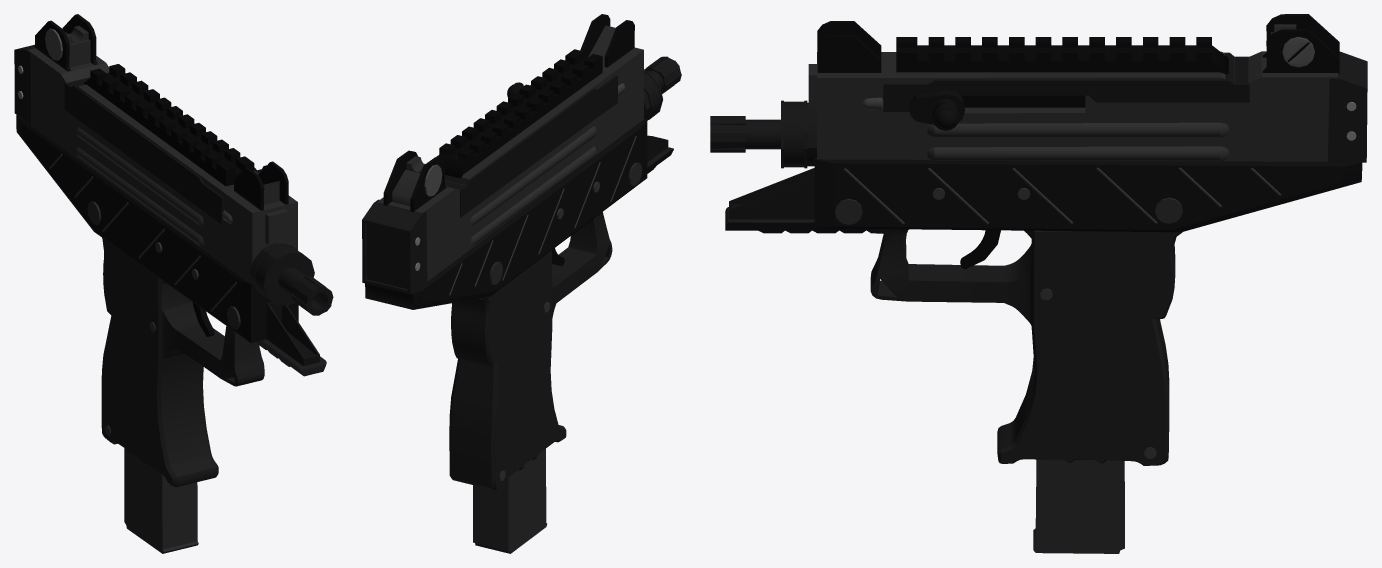
File: uzi.glb
The picture shows the model from 3 angles, left to right: view 1: azimuth 30°, elevation 25°; view 2: azimuth 150°, elevation 25°; view 3: azimuth 270°, elevation 25°; orthographic projection. The views are drawn at different scales.
Visible parts, largest first — view 1: Plane, Cube.003, Cube.001, Cube.002, Cube, Cube.004, Cylinder, Plane.002, Plane.006, Cylinder.002, Cylinder.001, Plane.005 (+3 smaller); view 2: Plane, Cube.001, Cube.003, Cube.002, Cube.004, Cube, Plane.004, Cylinder, Plane.006, Plane.005, Cylinder.002, Cylinder.001 (+2 smaller); view 3: Plane, Cube.001, Cube.003, Cube.002, Cube, Cube.004, Cylinder, Cylinder.002, Cylinder.001, Plane.004, Plane.005, Plane.002 (+3 smaller).
Boxes of the visible parts, <box> form: Plane: <box>101,238,326,487</box>; Cube.003: <box>27,25,297,282</box>; Cube.001: <box>16,115,298,343</box>; Cube.002: <box>83,64,254,186</box>; Cube: <box>124,448,198,553</box>; Cube.004: <box>64,72,223,224</box>; Cylinder: <box>250,243,333,315</box>; Plane.002: <box>266,302,319,366</box>; Plane.006: <box>234,161,288,210</box>; Cylinder.002: <box>76,147,204,247</box>; Cylinder.001: <box>76,127,204,226</box>; Plane.005: <box>35,14,97,71</box>; Plane: <box>449,147,673,489</box>; Cube.001: <box>365,118,647,309</box>; Cube.003: <box>376,25,643,281</box>; Cube.002: <box>438,49,602,178</box>; Cube.004: <box>436,75,617,217</box>; Cube: <box>473,449,547,553</box>; Plane.004: <box>362,199,427,294</box>; Cylinder: <box>644,56,681,120</box>; Plane.006: <box>580,14,634,67</box>; Plane.005: <box>383,150,446,212</box>; Cylinder.002: <box>470,146,596,246</box>; Cylinder.001: <box>470,126,596,225</box>; Plane: <box>725,207,1182,465</box>; Cube.001: <box>814,158,1362,232</box>; Cube.003: <box>808,24,1337,161</box>; Cube.002: <box>896,37,1228,74</box>; Cube: <box>1033,459,1124,553</box>; Cube.004: <box>883,52,1249,111</box>; Cylinder: <box>710,100,816,168</box>; Cylinder.002: <box>927,146,1229,161</box>; Cylinder.001: <box>927,122,1229,137</box>; Plane.004: <box>1327,51,1367,162</box>; Plane.005: <box>1262,14,1339,73</box>; Plane.002: <box>729,168,814,219</box>.
Bounding box in the file's own units: 0.5905 × 2.91 × 3.33.
Materials: 1 (1 with a texture image).
